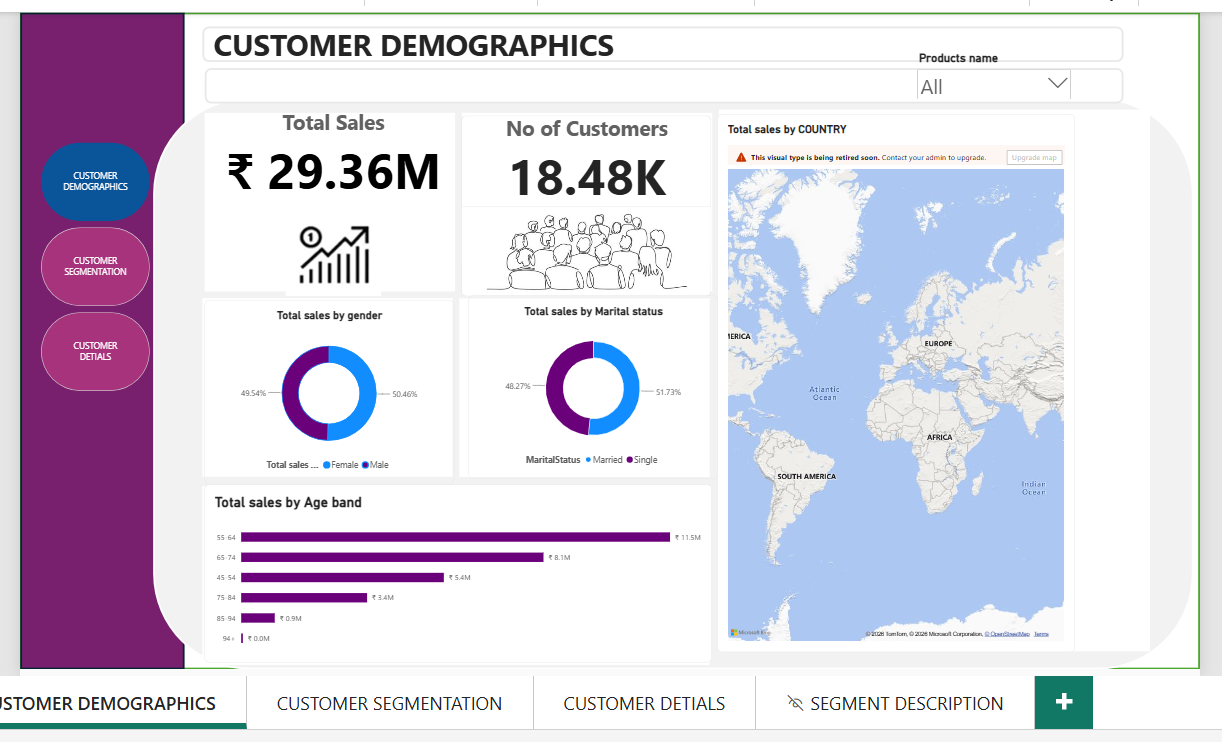

The page's visual inventory and layout, read from the dashboard file:
{"tool":"powerbi","page":{"name":"CUSTOMER DEMOGRAPHICS","canvas":[1920,1080],"ordinal":0},"visuals":[{"type":"cardVisual","fields":{"Data":["Sum(FactInternetSales.SalesAmount)"]},"box":[315,155,390.3,306.5],"z":0},{"type":"cardVisual","fields":{"Data":["Count(FactInternetSales.CustomerKey)"]},"box":[716.4,167.2,407.5,294],"z":1000},{"type":"donutChart","title":"Total sales by gender","fields":{"Category":["DimCustomer.Gender"],"Y":["Sum(FactInternetSales.SalesAmount)"]},"box":[299,468,406,300],"z":2000},{"type":"donutChart","title":"Total sales by Marital status","fields":{"Category":["DimCustomer.MaritalStatus"],"Y":["Sum(FactInternetSales.SalesAmount)"]},"box":[728.4,461.2,406,298.5],"z":3000},{"type":"barChart","title":"Total sales by Age band","fields":{"Category":["DimCustomer.Age Band"],"Y":["Sum(FactInternetSales.SalesAmount)"]},"box":[300,768.1,825.5,289.4],"z":4000},{"type":"map","fields":{"Category":["DimGeography.COUNTRY"],"Size":["Sum(FactInternetSales.SalesAmount)"]},"box":[1133.3,166.7,581.2,875],"z":5000},{"type":"textbox","box":[210.4,70.8,412.5,114.6],"z":6000},{"type":"textbox","box":[0,35.4,70.8,150],"z":7000},{"type":"textbox","box":[314.6,18.8,808.3,91.7],"z":8000},{"type":"slicer","fields":{"Values":["DimProduct.Products name"]},"box":[1454.2,64.6,260.4,77.1],"z":8001},{"type":"pageNavigator","box":[34.1,211.4,177.3,406.8],"z":8002}]}

Visuals, with their boxes on the page's 1920x1080 design canvas (x1, y1, x2, y2). These are canvas units, not pixel positions in the 1222x742 screenshot, which may show the page scaled, cropped or inside an application window:
cardVisual - Sum(FactInternetSales.SalesAmount): [x1=315, y1=155, x2=705, y2=462]
cardVisual - Count(FactInternetSales.CustomerKey): [x1=716, y1=167, x2=1124, y2=461]
"Total sales by gender" donutChart: [x1=299, y1=468, x2=705, y2=768]
"Total sales by Marital status" donutChart: [x1=728, y1=461, x2=1134, y2=760]
"Total sales by Age band" barChart: [x1=300, y1=768, x2=1126, y2=1058]
map - DimGeography.COUNTRY x Sum(FactInternetSales.SalesAmount): [x1=1133, y1=167, x2=1714, y2=1042]
textbox: [x1=210, y1=71, x2=623, y2=185]
textbox: [x1=0, y1=35, x2=71, y2=185]
textbox: [x1=315, y1=19, x2=1123, y2=110]
slicer - DimProduct.Products name: [x1=1454, y1=65, x2=1715, y2=142]
pageNavigator: [x1=34, y1=211, x2=211, y2=618]
